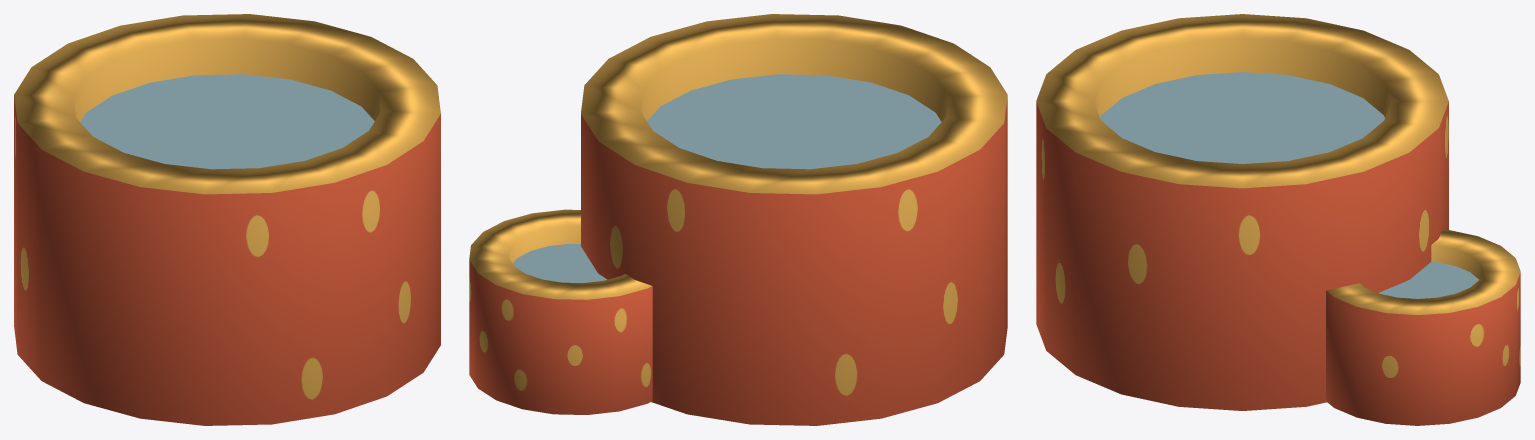
Rendered from WoodWaterLow.fbx.
The picture shows the model from 3 angles, left to right: view 1: azimuth 30°, elevation 25°; view 2: azimuth 150°, elevation 25°; view 3: azimuth 270°, elevation 25°; orthographic projection. The views are drawn at different scales.
Visible parts, largest first — view 1: group2_pCylinder2; view 2: group2_pCylinder2; view 3: group2_pCylinder2.
Boxes of the visible parts, x1,y1,x2,y2 form: group2_pCylinder2: (14, 14, 440, 425); group2_pCylinder2: (469, 14, 1007, 425); group2_pCylinder2: (1036, 14, 1520, 425).
Size of the model in its own units: 3.37 by 1.84 by 3.62.
Materials: 2 (1 with a texture image).
